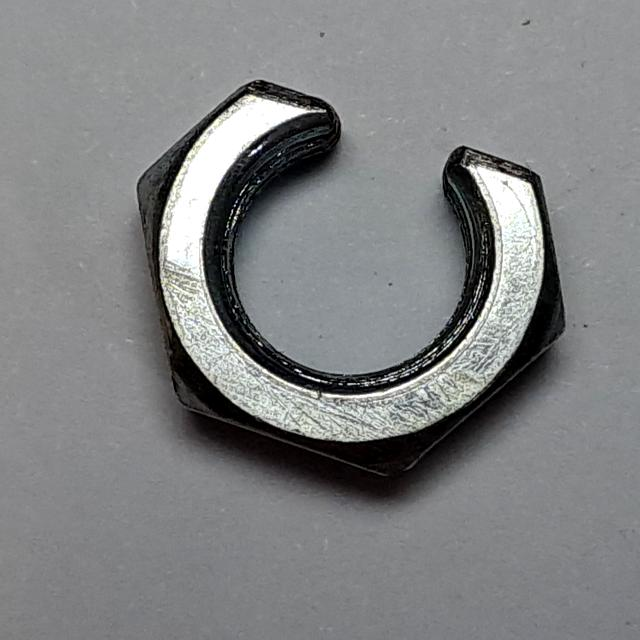Fracture: (124, 72, 580, 489)
